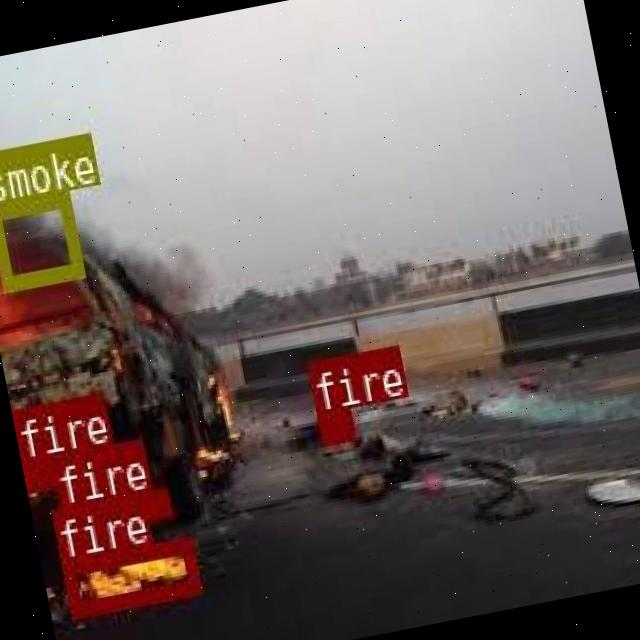fire: (60, 536, 198, 617), (61, 488, 169, 532), (22, 449, 88, 489), (314, 406, 352, 444)
smoke: (0, 190, 83, 288)
